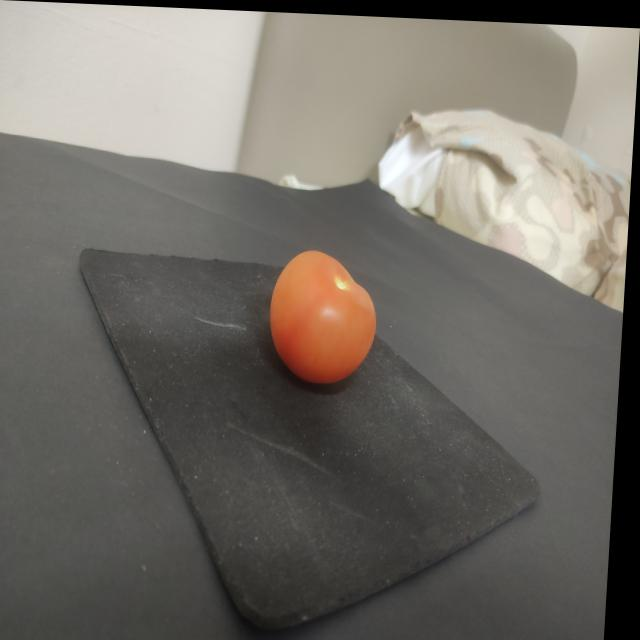sari: (268, 235, 385, 390)
